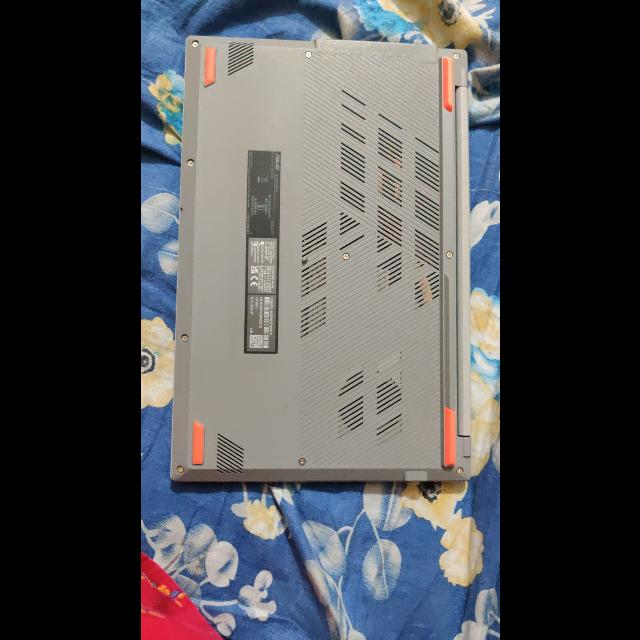laptop: (158, 16, 484, 520)
